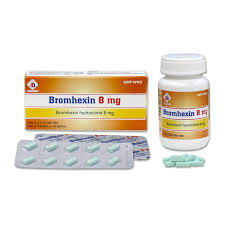Bromhexin: (48, 93, 96, 107)
